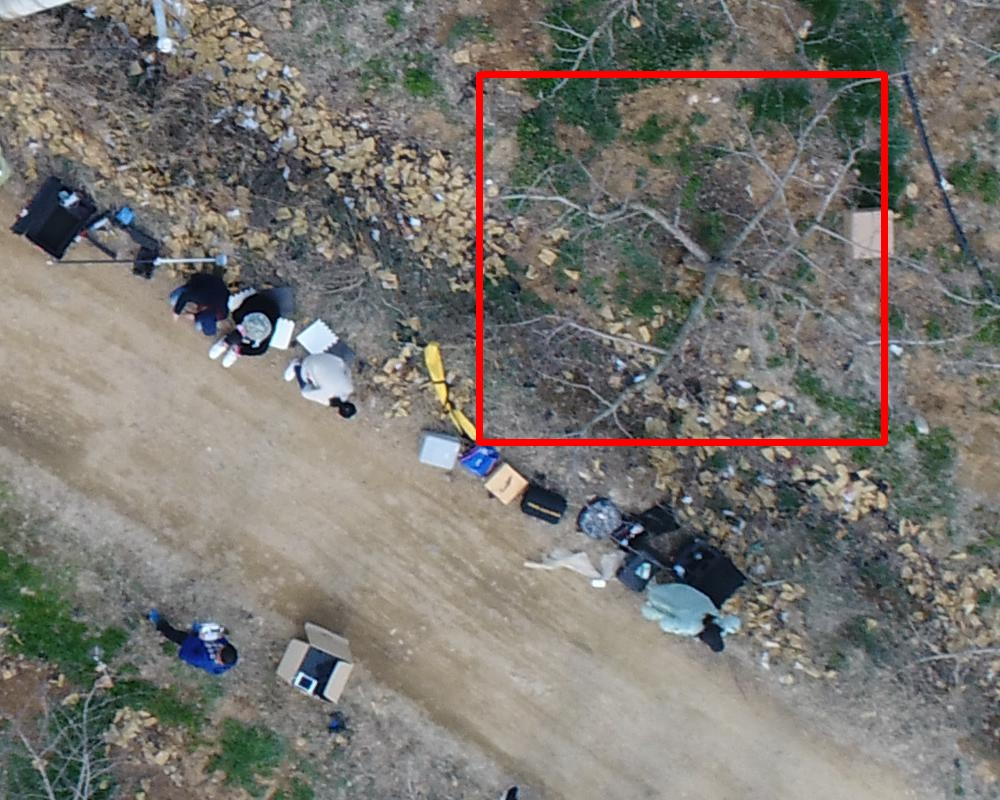apple: (479, 74, 884, 442)
